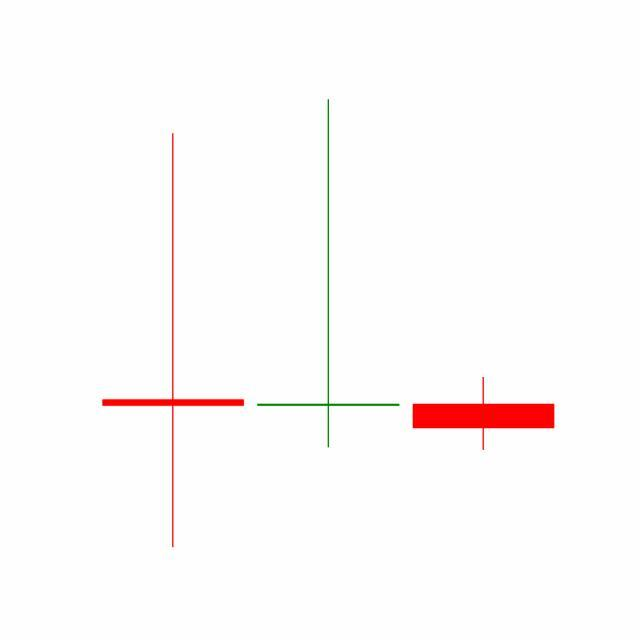Gravestone Doji: (250, 96, 407, 452)
